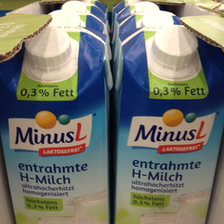milk: (3, 28, 112, 224), (115, 28, 224, 222)
